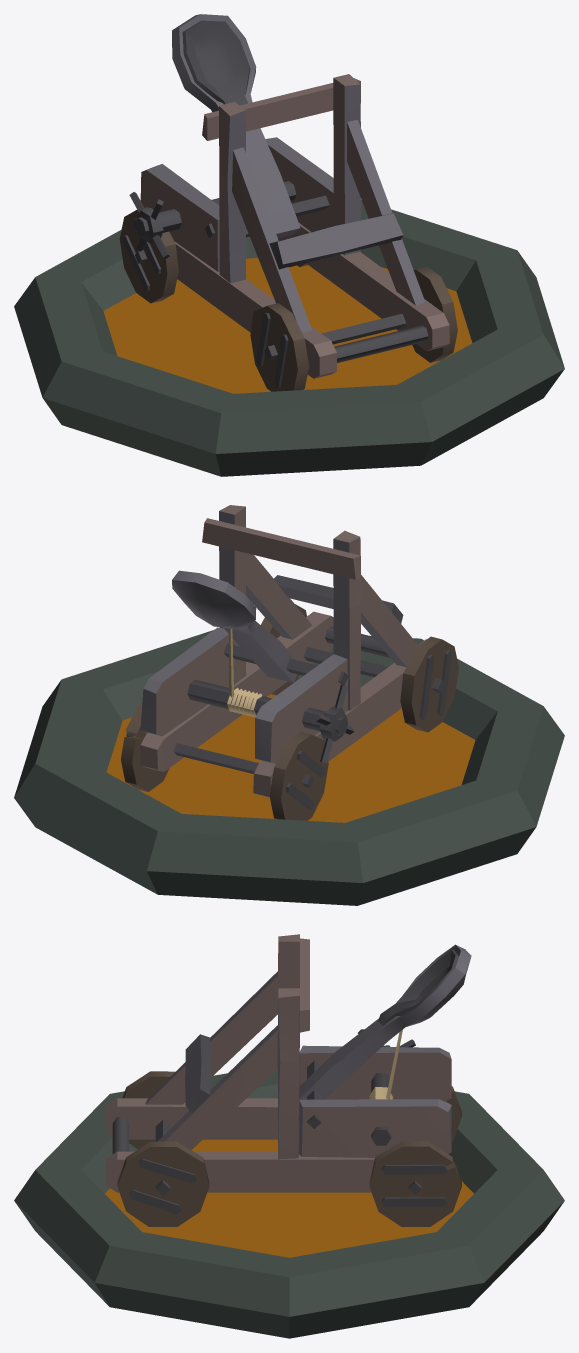
File: Catapulta Final.fbx
3 views of the same model, one above another, from view 1: azimuth 30°, elevation 25°; view 2: azimuth 150°, elevation 25°; view 3: azimuth 270°, elevation 25° (orthographic). The views are drawn at different scales.
Parts seen in each view (by area): view 1: BaseCatapulta, Catapulta; view 2: BaseCatapulta, Catapulta; view 3: BaseCatapulta, Catapulta.
Part boxes in pixels (left/top/right/bottom): BaseCatapulta: left=14, top=199, right=564, bottom=476; Catapulta: left=119, top=14, right=457, bottom=391; BaseCatapulta: left=14, top=630, right=564, bottom=905; Catapulta: left=121, top=505, right=458, bottom=820; BaseCatapulta: left=14, top=1065, right=564, bottom=1338; Catapulta: left=105, top=934, right=471, bottom=1226.
Size of the model in its own units: 217 by 122 by 217.
